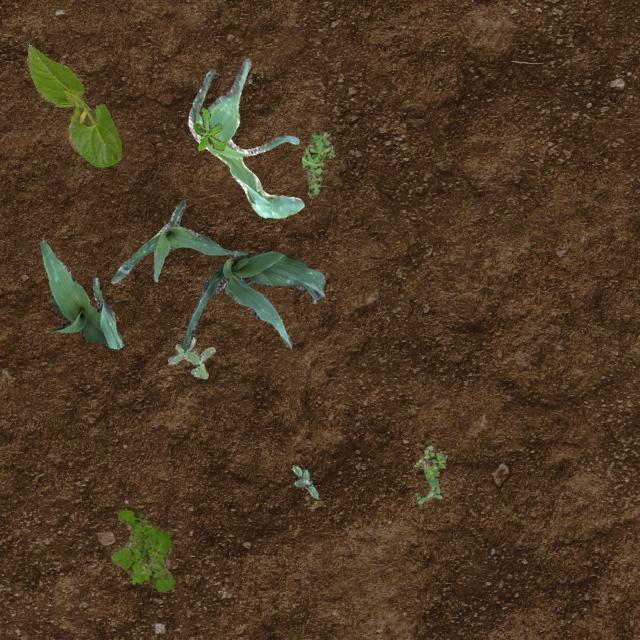crop: (188, 57, 302, 216), (182, 248, 324, 352), (26, 44, 120, 166), (110, 200, 246, 282), (38, 240, 124, 348)
weed: (110, 510, 174, 590), (300, 130, 334, 198), (168, 336, 215, 378), (414, 444, 446, 502), (192, 106, 224, 150), (292, 464, 318, 498)
